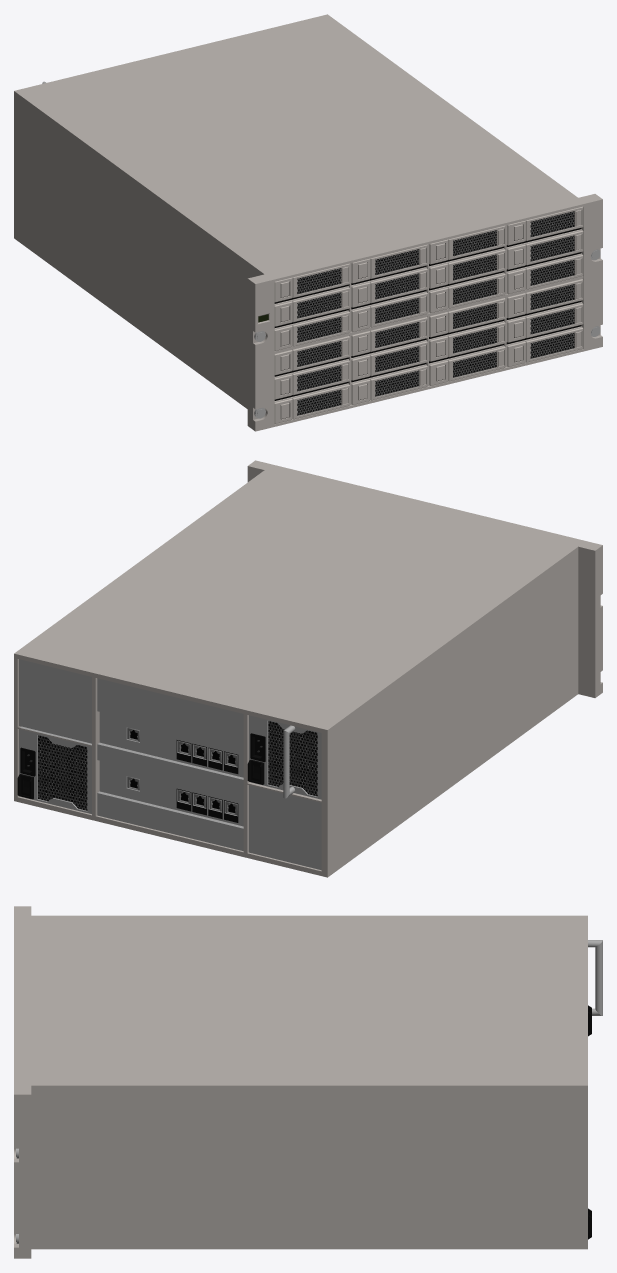
The model's file is ORACLE_DE3-24C.fbx.
3 renders of one model, top to bottom at view 1: azimuth 30°, elevation 25°; view 2: azimuth 150°, elevation 25°; view 3: azimuth 270°, elevation 25°, orthographic. The views are drawn at different scales.
Parts seen in each view (by area): view 1: ORACLE_DE3-24C; view 2: ORACLE_DE3-24C; view 3: ORACLE_DE3-24C.
Part boxes in pixels (x1=…): ORACLE_DE3-24C: x1=14, y1=14, x2=602, y2=431; ORACLE_DE3-24C: x1=14, y1=460, x2=602, y2=877; ORACLE_DE3-24C: x1=14, y1=906, x2=602, y2=1258.
Bounding box in the file's own units: 434 × 176 × 573.
Materials: 8 (1 with a texture image).
